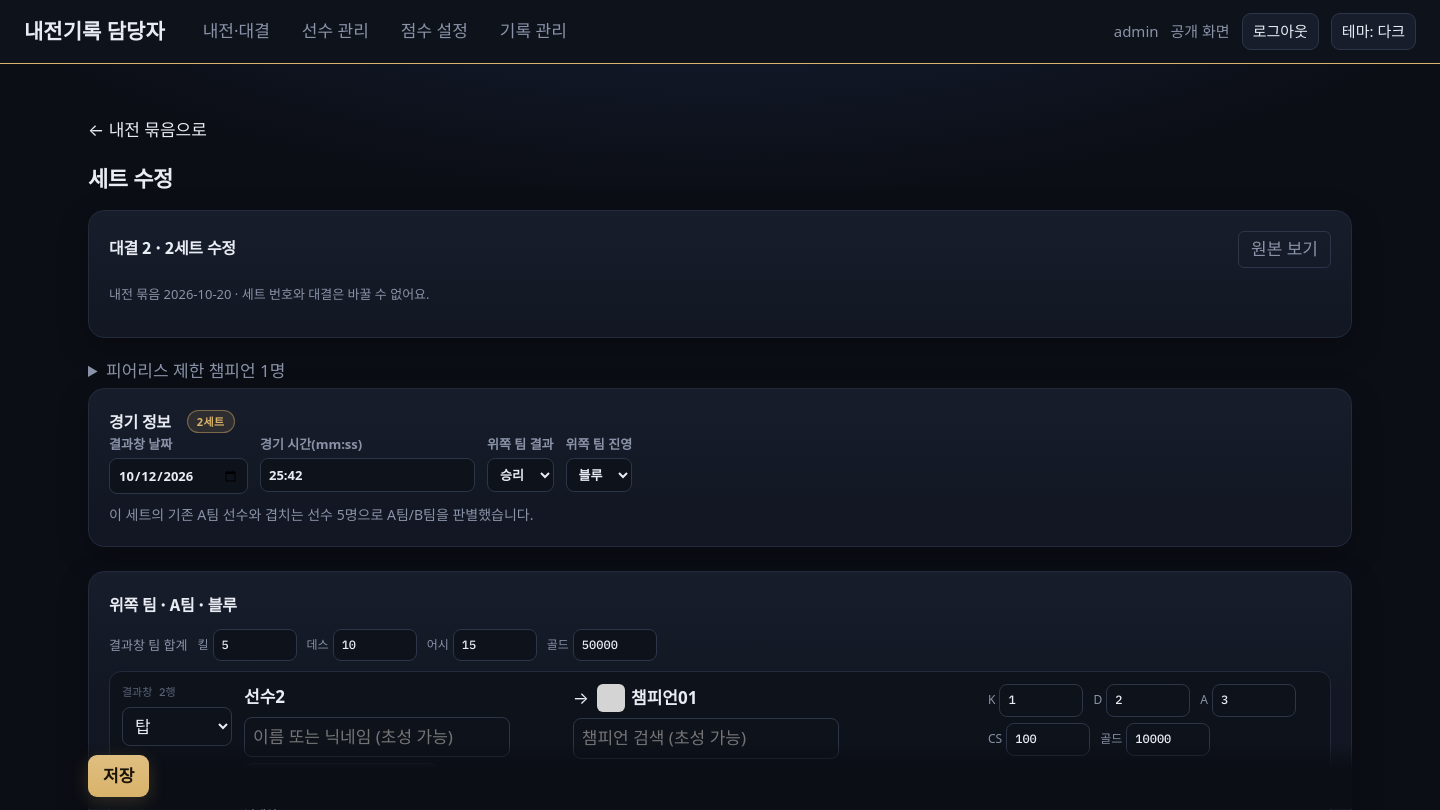
Test: SetEditPage › 잘못된 경기 시간이면 저장할 수 없다
Replace the text in the field labelled "경기 시간(mm:ss)" with "2542" at (368, 475), box [260,458,475,492]
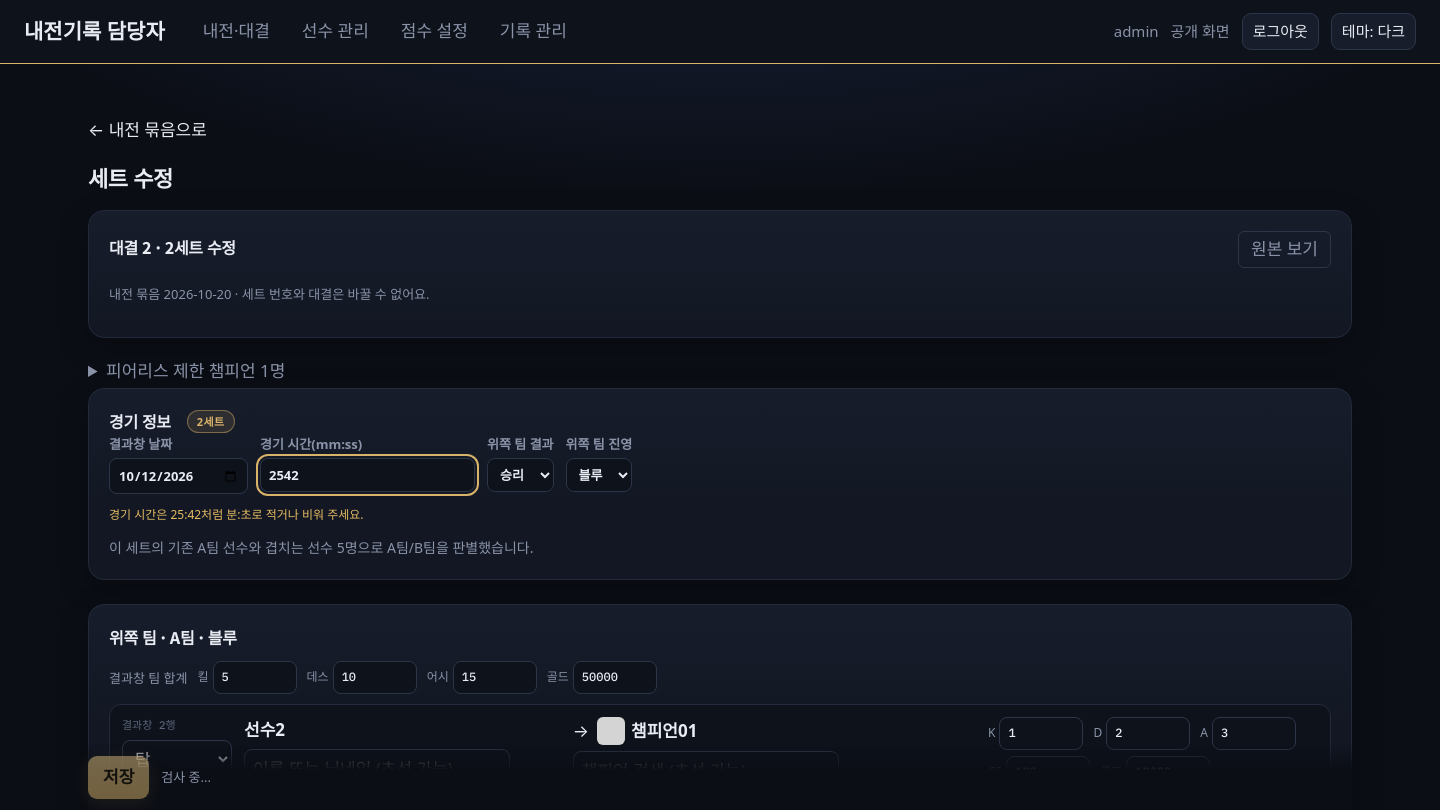
Expected: the button "저장" is disabled, [88,756,149,798]
Expected: the text "경기 시간은 25:42처럼 분:초로 적거나 비워 주세요." is shown, [109,506,364,523]
